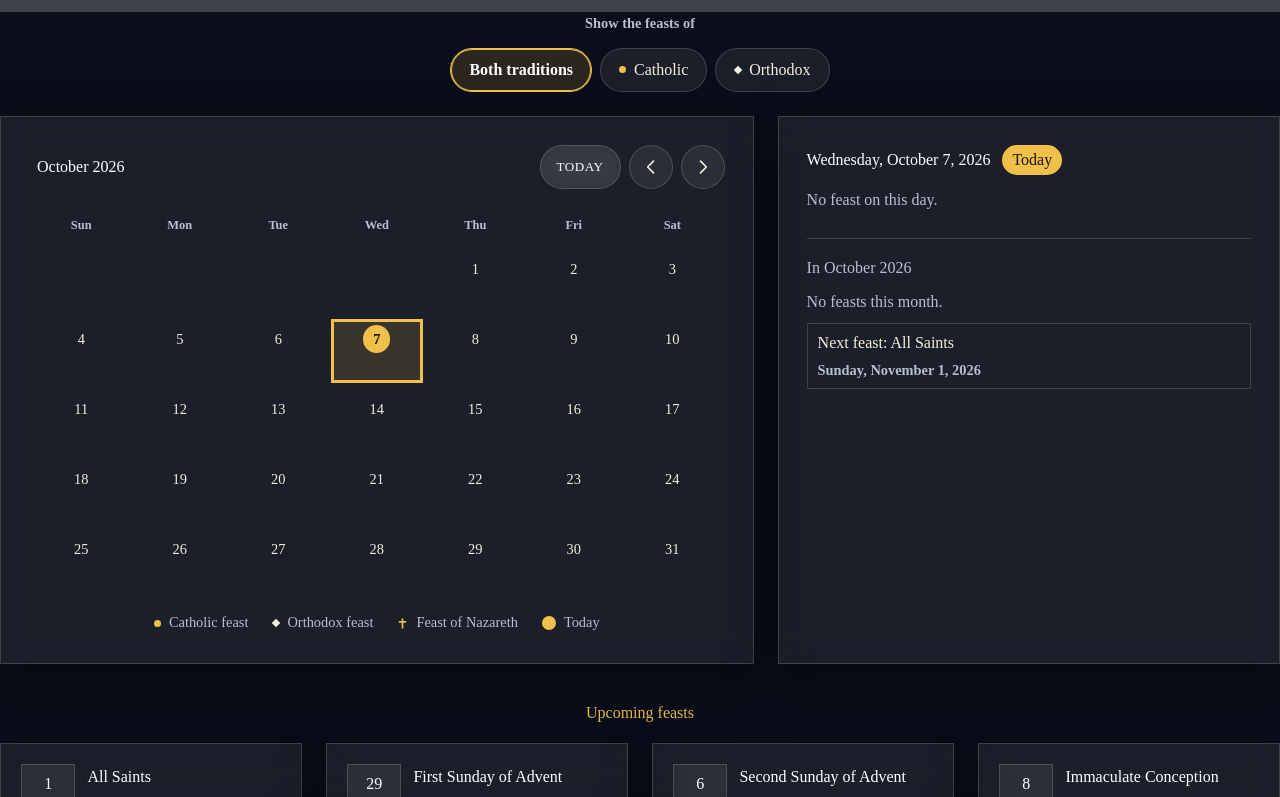
Test: <LiturgicalCalendar> › moves through days and months with the keyboard and keeps the focus on the chosen day
The image size is (1280, 797).
Press ArrowRight in the button "7", box 330,319 -> 423,383
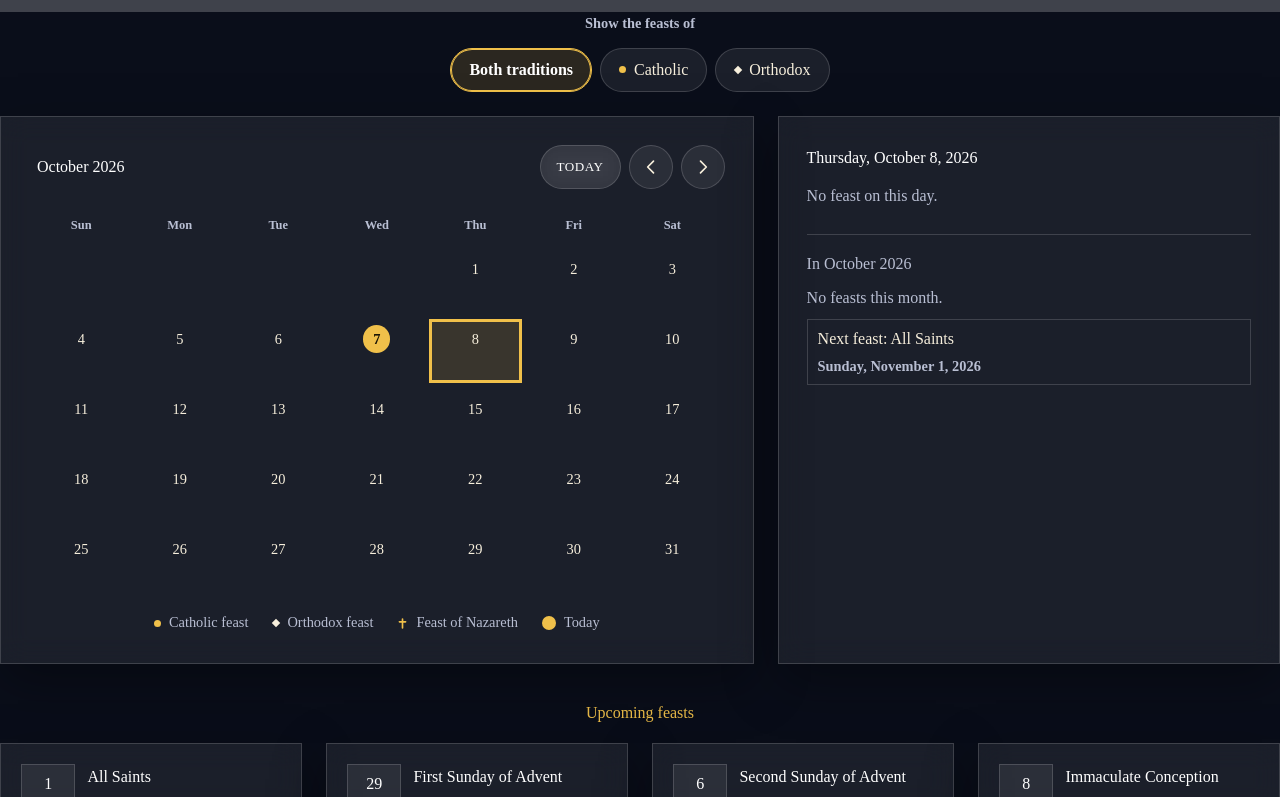
Press ArrowDown in the button "8", box 429,319 -> 522,383
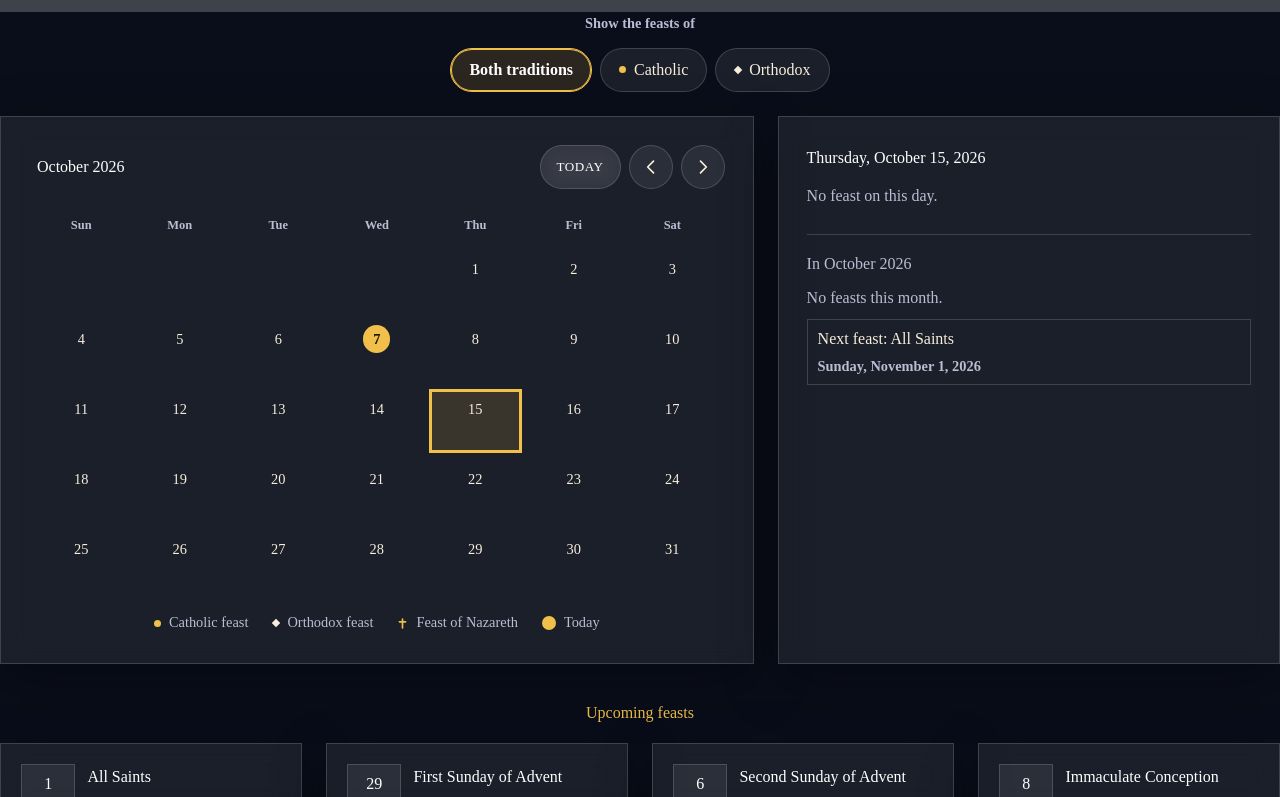
Press End in the button "15", box 429,389 -> 522,453
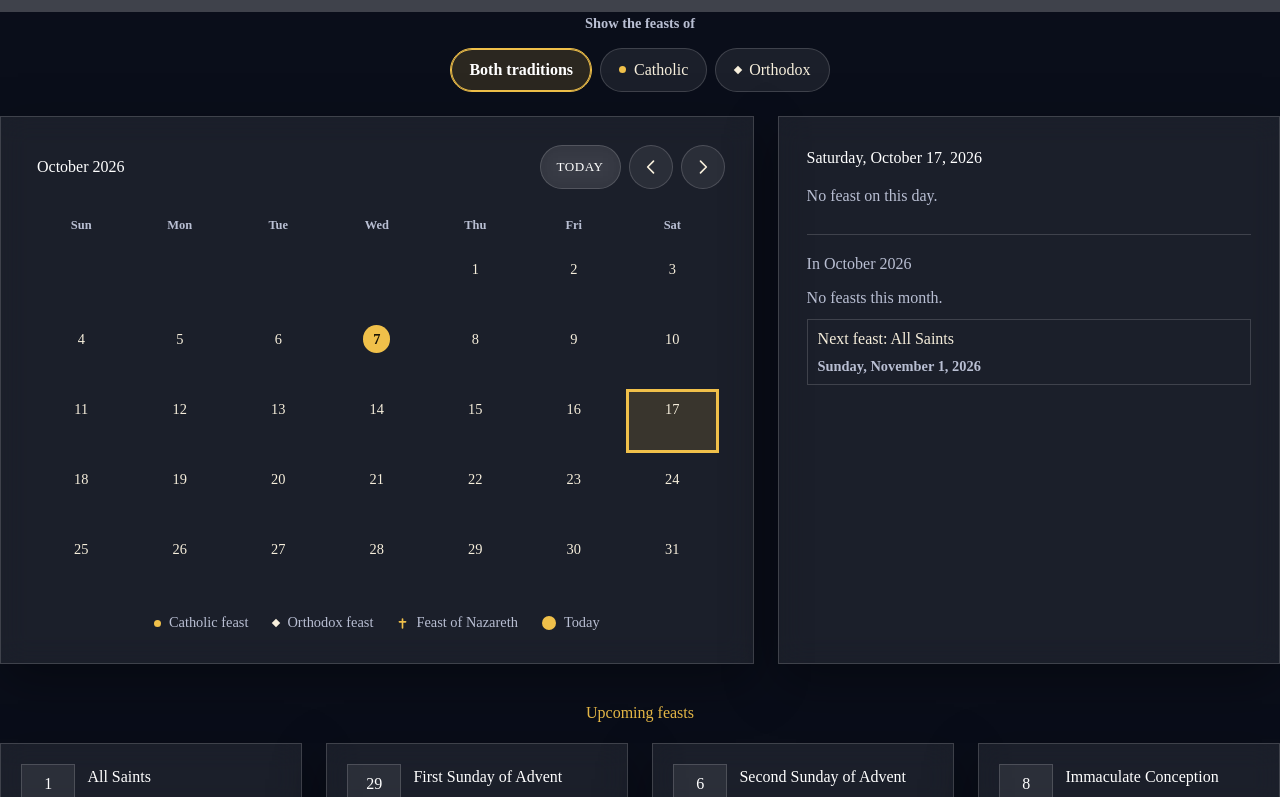
Press PageDown in the button "17", box 626,389 -> 719,453
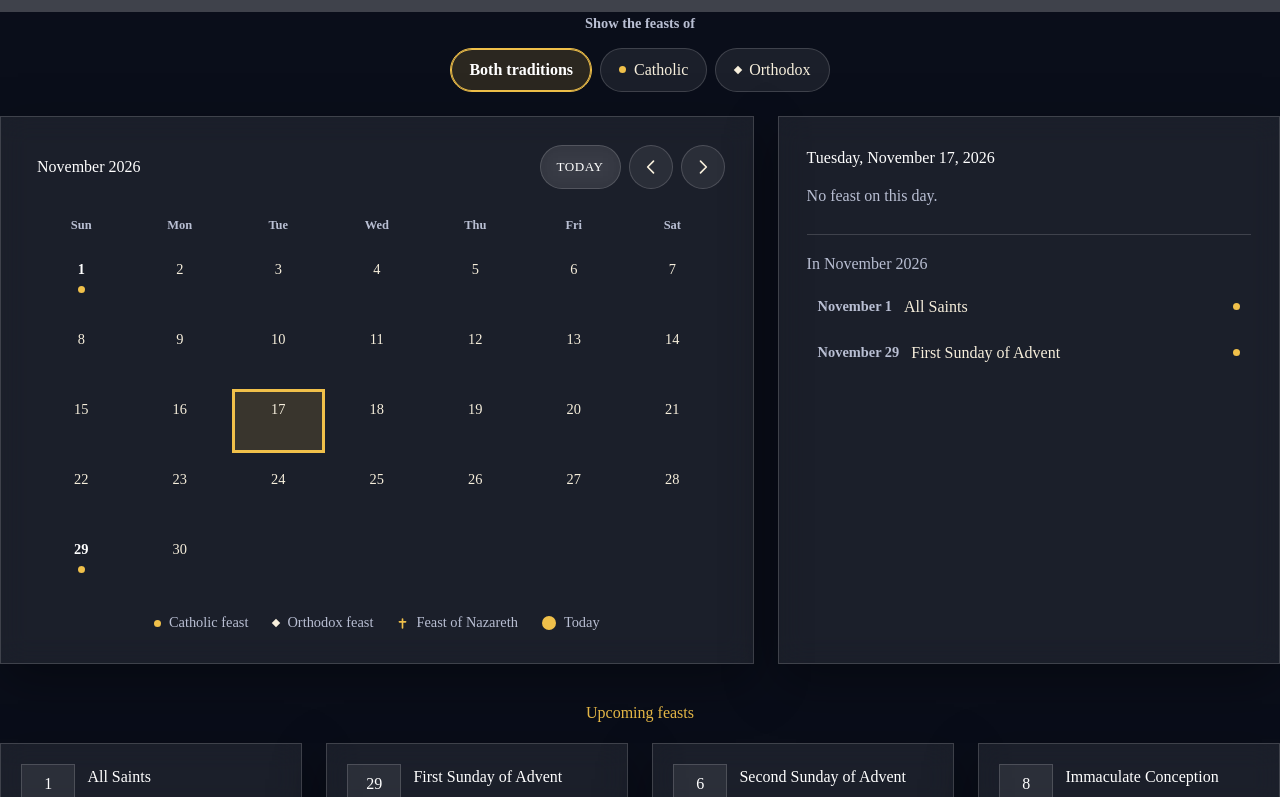
Click the button "1": (81, 281) 35,249 -> 128,313
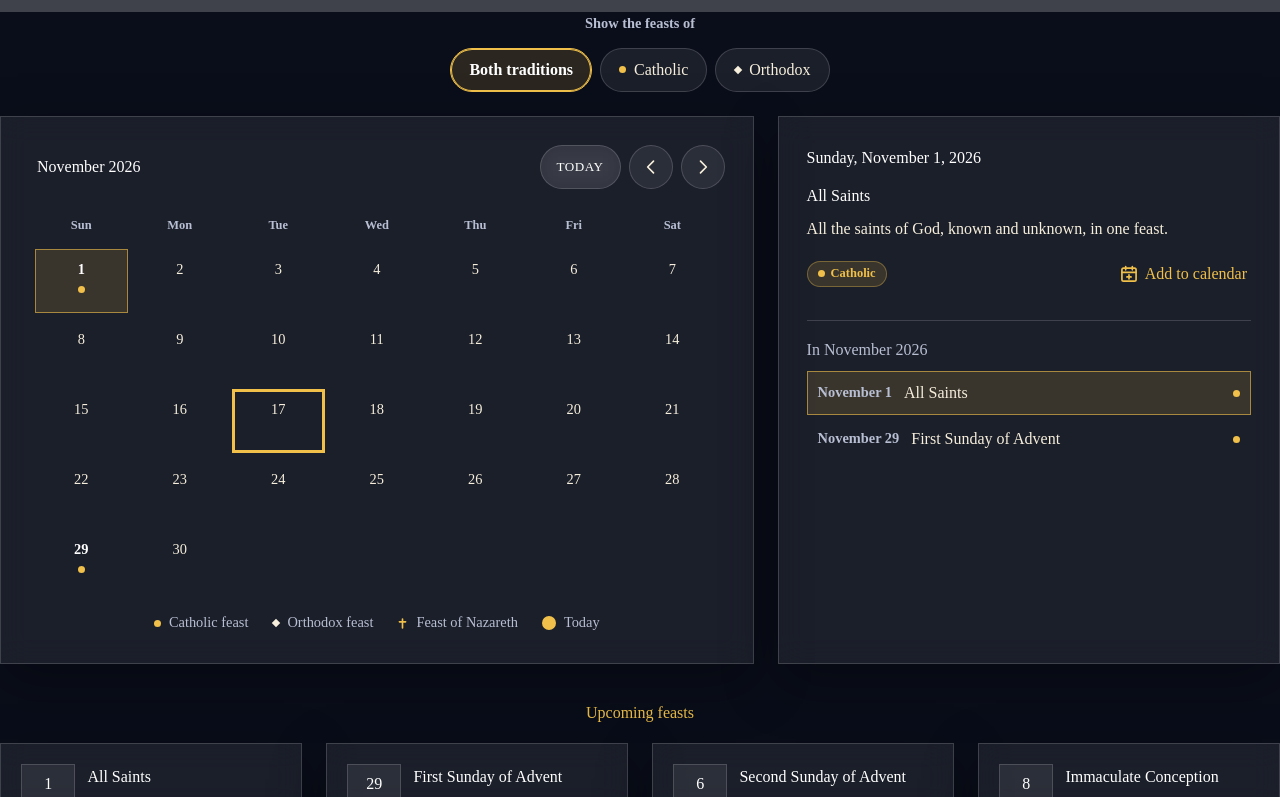
expect the 1st text "All Saints" is shown: met, box 807,183 -> 870,210
expect the text "All the saints of God, known and unknown, in one feast." is shown: met, box 807,220 -> 1168,236
